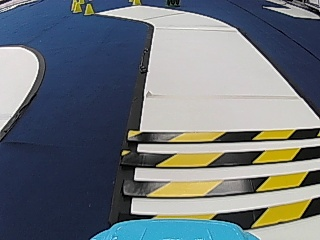bump: (139, 130, 319, 219)
